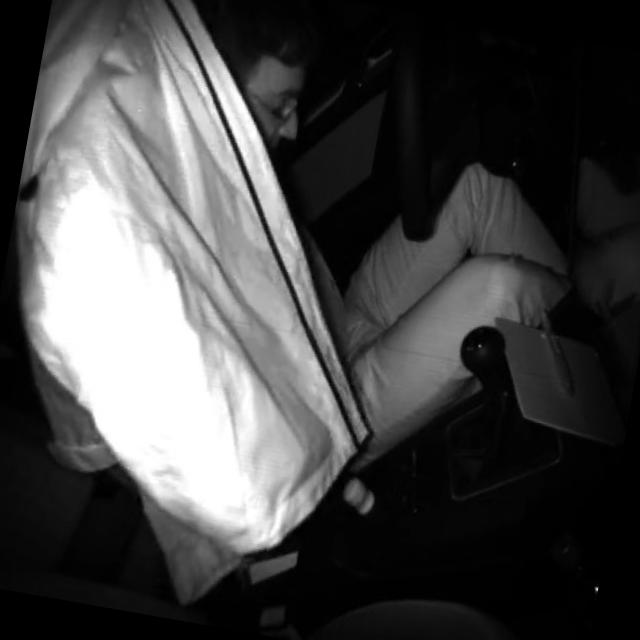pen: (524, 298, 592, 404)
